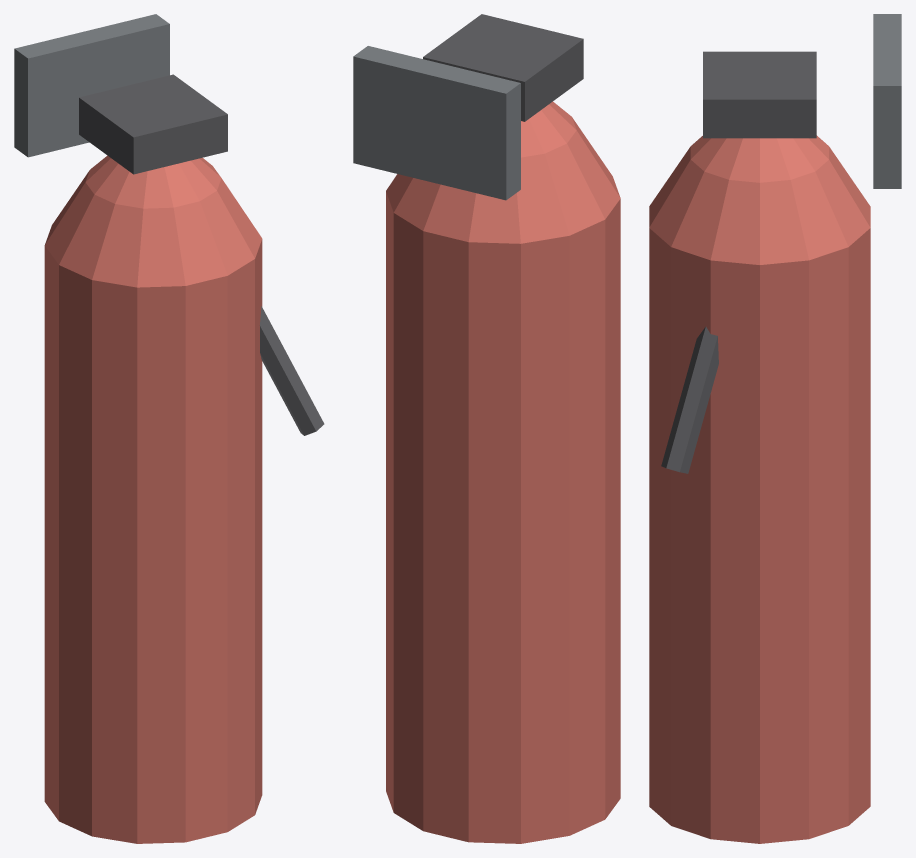
Rendered from extinguisher.glb.
The picture shows the model from 3 angles, left to right: view 1: azimuth 30°, elevation 25°; view 2: azimuth 150°, elevation 25°; view 3: azimuth 270°, elevation 25°; orthographic projection. The views are drawn at different scales.
Parts seen in each view (by area): view 1: extinguisher_redp, extinguisher_dark, extinguisher_steel_d; view 2: extinguisher_redp, extinguisher_steel_d, extinguisher_dark; view 3: extinguisher_redp, extinguisher_dark, extinguisher_steel_d.
Boxes of the visible parts, <box> form: extinguisher_redp: <box>44,155,262,843</box>; extinguisher_dark: <box>79,74,324,435</box>; extinguisher_steel_d: <box>14,14,169,157</box>; extinguisher_redp: <box>386,101,620,843</box>; extinguisher_steel_d: <box>353,46,520,200</box>; extinguisher_dark: <box>423,14,583,121</box>; extinguisher_redp: <box>649,135,870,843</box>; extinguisher_dark: <box>661,51,816,473</box>; extinguisher_steel_d: <box>873,14,901,188</box>.
Size of the model in its own units: 0.189 by 0.58 by 0.178.
